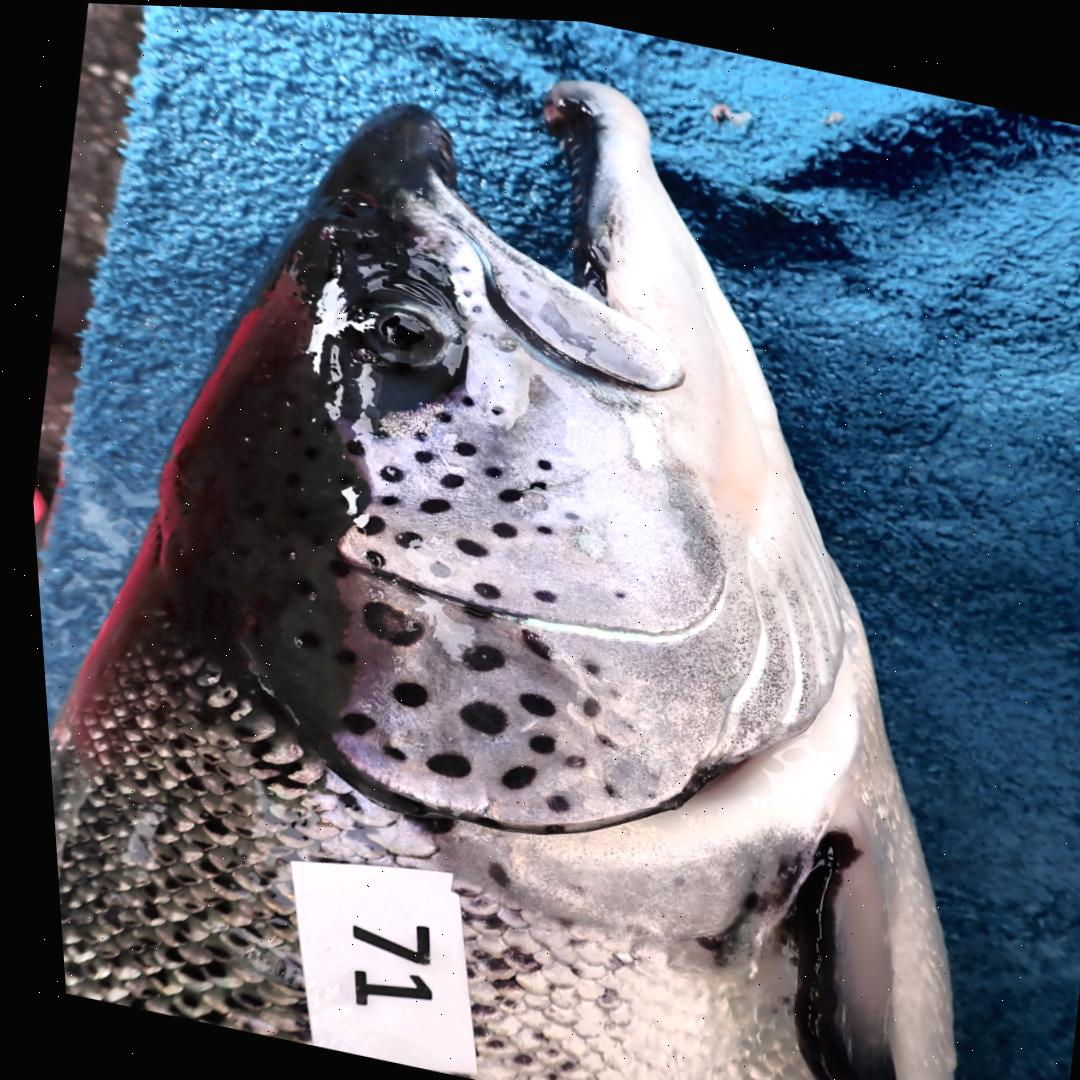spot: (353, 598, 413, 643), (447, 697, 498, 734), (412, 750, 459, 775), (453, 641, 494, 667), (381, 678, 417, 705), (488, 760, 525, 785), (509, 688, 544, 714), (512, 625, 541, 656), (331, 709, 363, 733), (447, 535, 479, 554), (411, 494, 443, 512), (350, 513, 377, 533), (518, 730, 543, 751), (386, 527, 413, 546), (465, 578, 491, 596), (371, 462, 397, 480), (534, 790, 558, 809), (453, 602, 482, 617), (570, 693, 590, 713), (431, 470, 455, 486), (357, 546, 378, 564), (369, 742, 394, 757), (484, 518, 507, 534), (491, 484, 515, 499), (420, 558, 441, 575), (447, 438, 470, 453), (322, 557, 341, 575), (326, 646, 347, 662), (339, 437, 359, 452), (367, 427, 386, 442), (408, 447, 426, 461), (525, 586, 546, 598), (553, 751, 574, 763), (373, 492, 391, 504), (530, 820, 551, 830), (477, 462, 494, 474), (587, 732, 603, 743), (530, 455, 545, 466), (521, 476, 537, 486), (430, 408, 444, 419), (591, 779, 602, 792), (406, 429, 421, 438), (575, 658, 586, 670), (455, 392, 466, 402), (529, 521, 544, 528), (557, 507, 570, 515), (486, 402, 496, 410), (607, 588, 617, 594)
